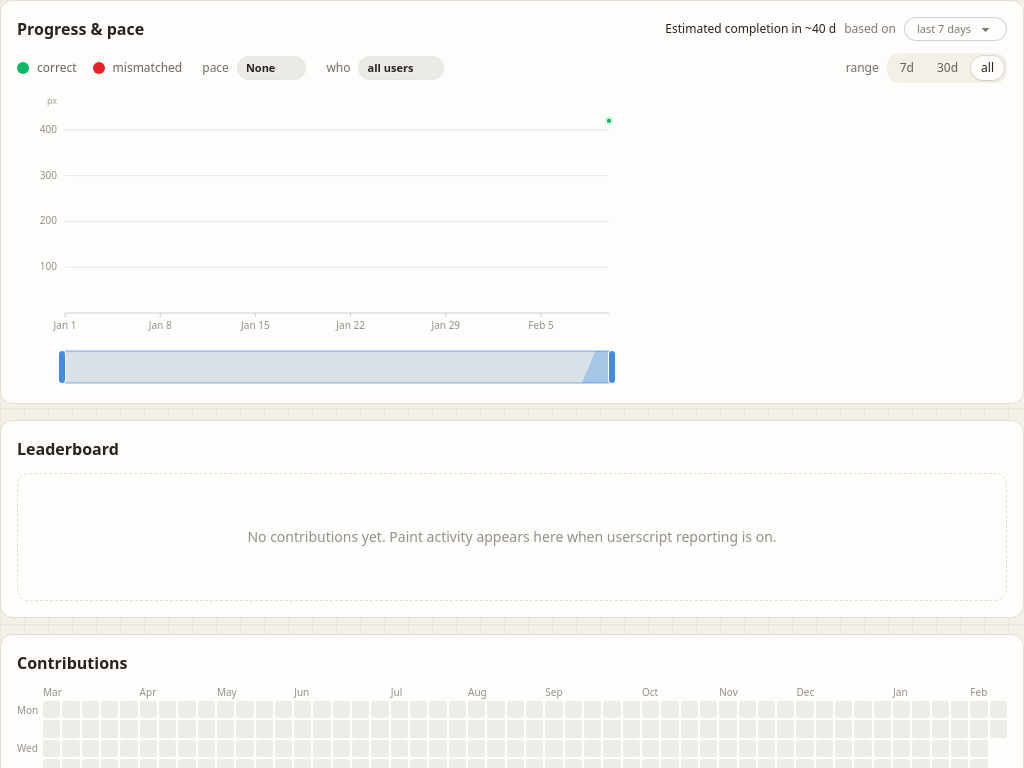
Test: retained history range › changes and persists every ETA period using the loaded history
Select "last day" in the dropdown named "Completion estimate pace period" at point(956, 29), box [904,17,1007,41]
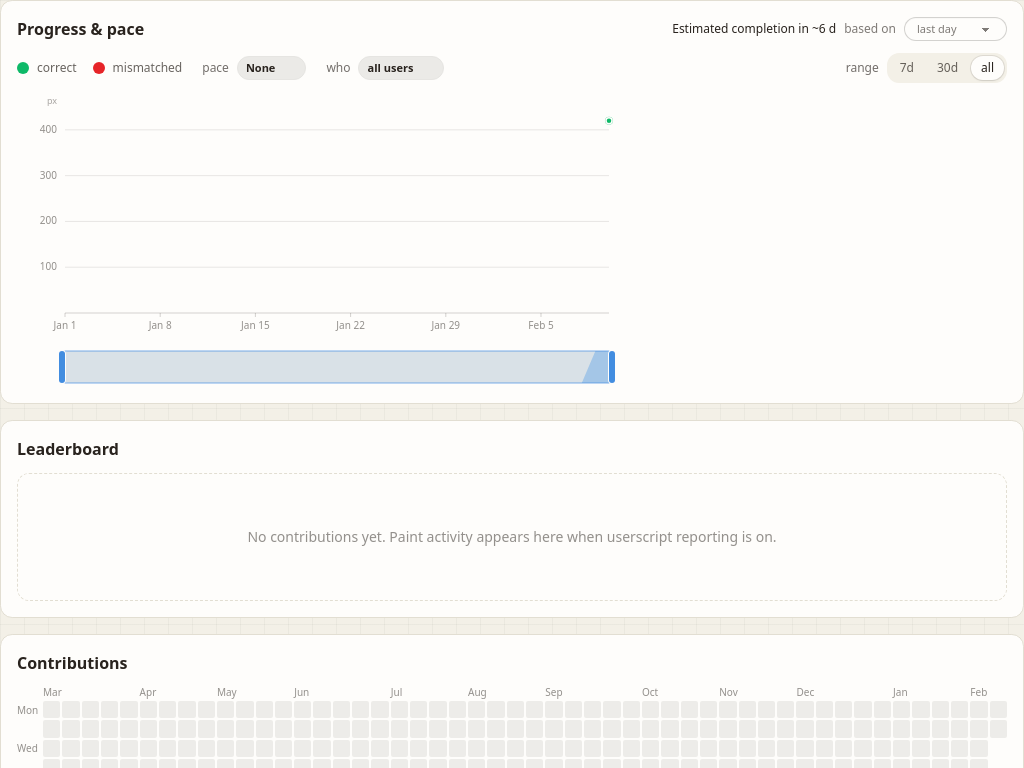
Expected: the text "Estimated completion in ~6 d" is shown, [672,21,836,37]
Expected: the dropdown named "Completion estimate pace period" shows "last day"
Select "last year" in the dropdown named "Completion estimate pace period" at point(956, 29), box [904,17,1007,41]
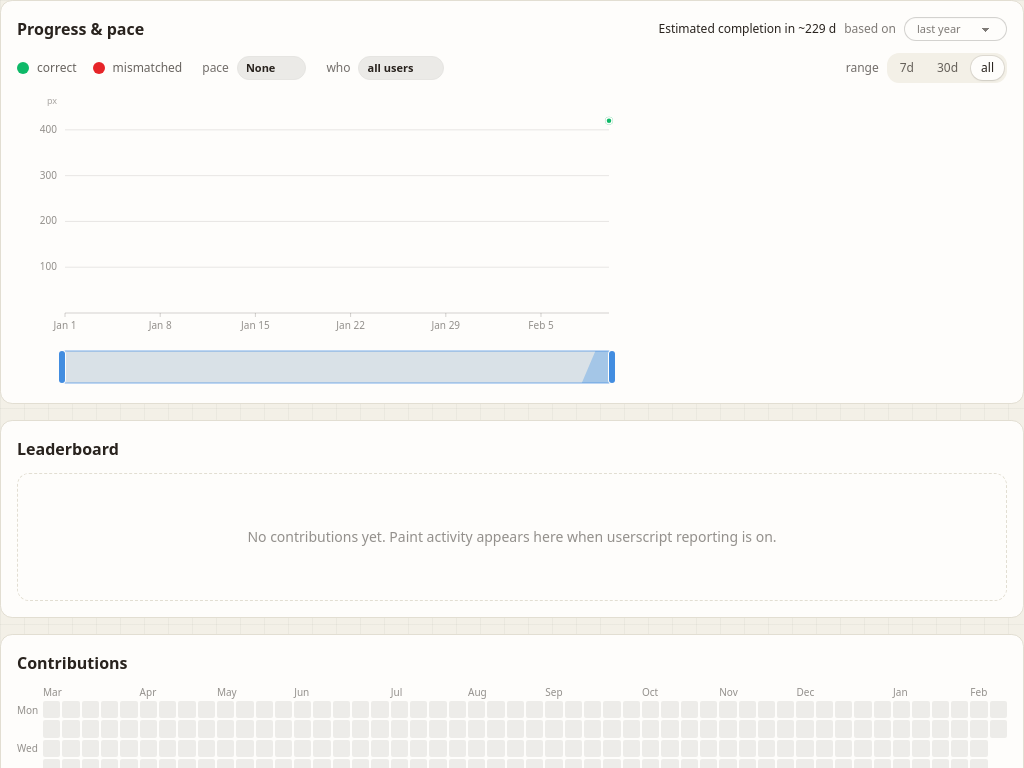
Expected: the text "Estimated completion in ~229 d" is shown, [658,21,836,37]
